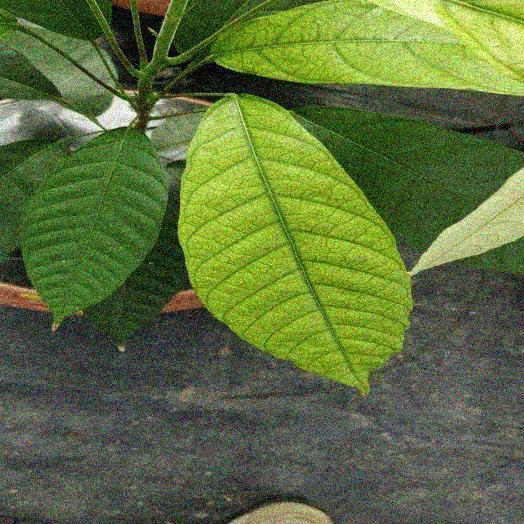Healthy Leaf: (293, 107, 523, 253), (21, 128, 168, 322), (85, 173, 188, 349), (0, 23, 114, 118), (0, 138, 69, 260), (1, 0, 114, 43)
Iron: (180, 95, 411, 392), (210, 0, 523, 94), (370, 0, 523, 84), (407, 168, 523, 277)
